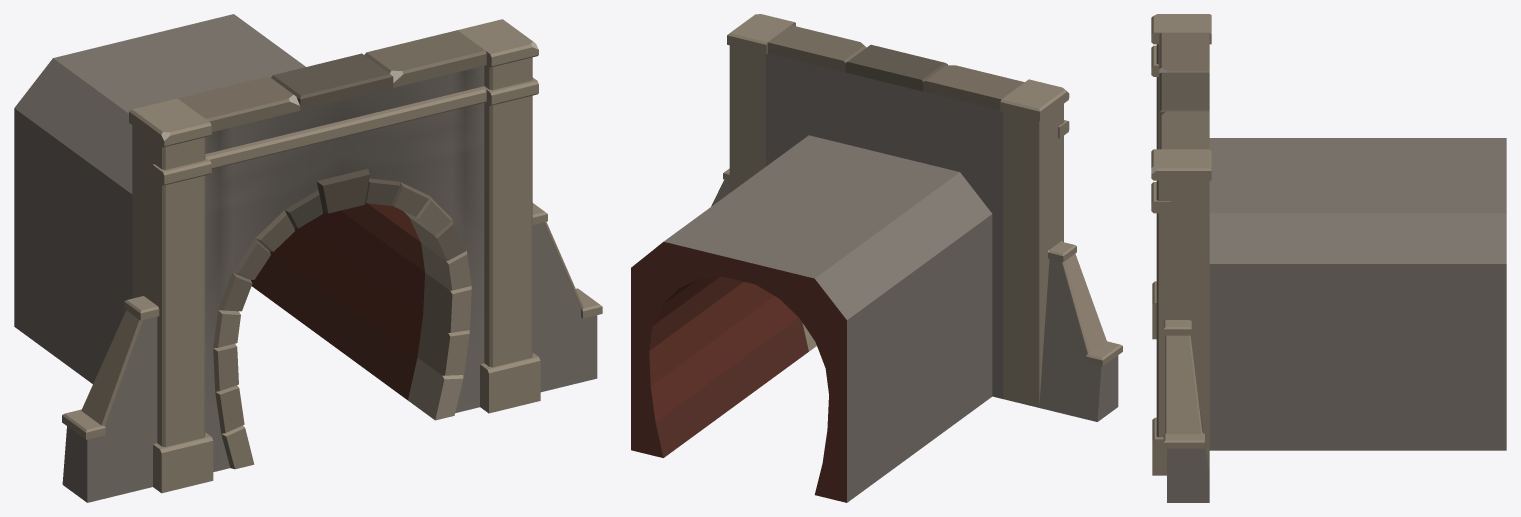
The model's file is tunnel-portal-4ac9f3.glb.
3 renders of one model, left to right at view 1: azimuth 30°, elevation 25°; view 2: azimuth 150°, elevation 25°; view 3: azimuth 270°, elevation 25°, orthographic. The views are drawn at different scales.
Parts seen in each view (by area): view 1: tunnel-portal-body; view 2: tunnel-portal-body; view 3: tunnel-portal-body.
Boxes of the visible parts, x1,y1,x2,y2 form: tunnel-portal-body: [14, 14, 602, 502]; tunnel-portal-body: [631, 14, 1122, 502]; tunnel-portal-body: [1151, 14, 1506, 502].
Bounding box in the file's own units: 12 × 7.95 × 8.37.
